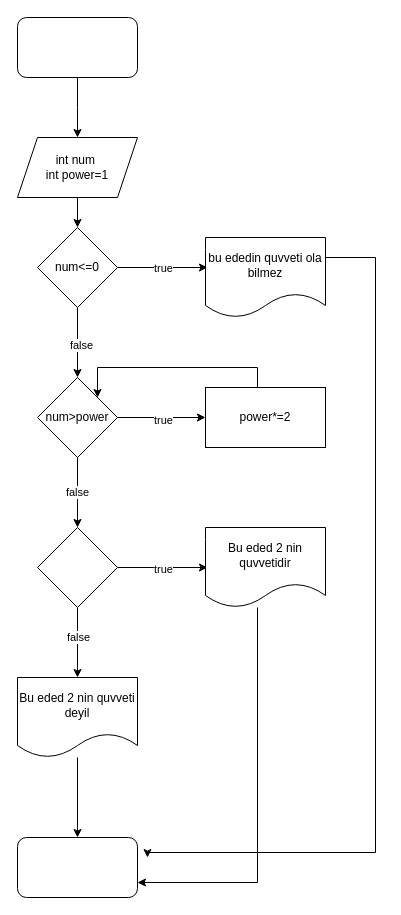
This 401x915 diagram has some shape labels left out. Here are the shapes that lost their labels. From the top down, the box of each, then its label:
(16, 16, 138, 78): start
(36, 526, 118, 608): num==pwer
(16, 836, 138, 898): end
